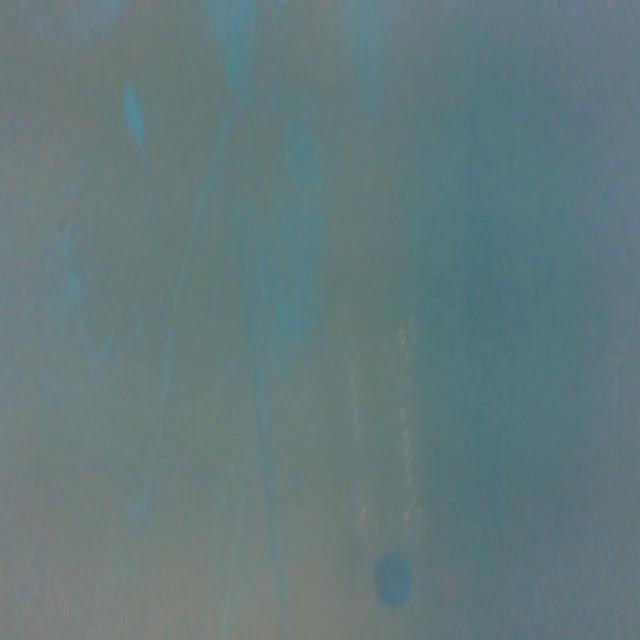plastic bottle: (328, 266, 435, 628)
